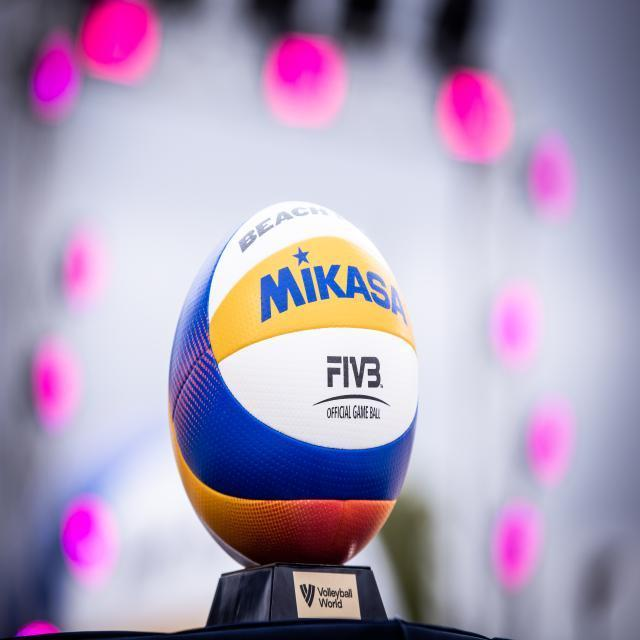volleyball: (168, 200, 420, 571)
